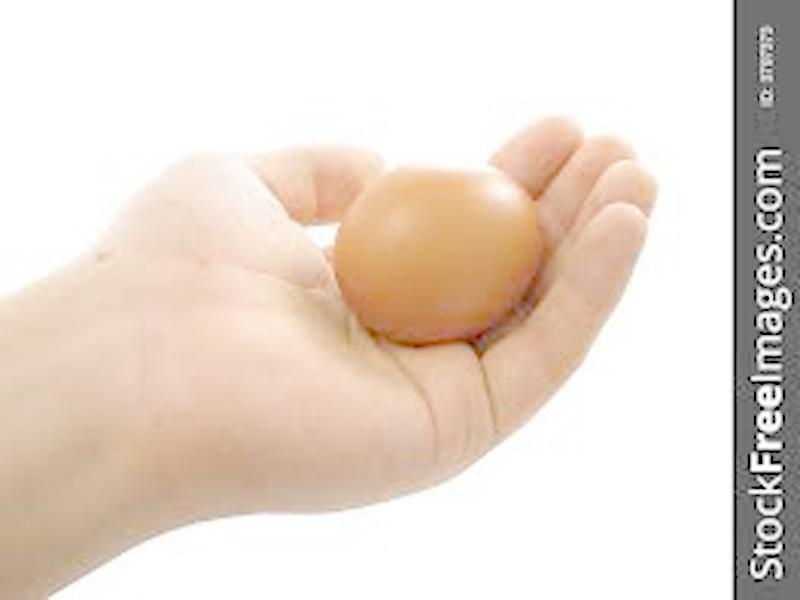Eggs: (332, 163, 557, 339)
